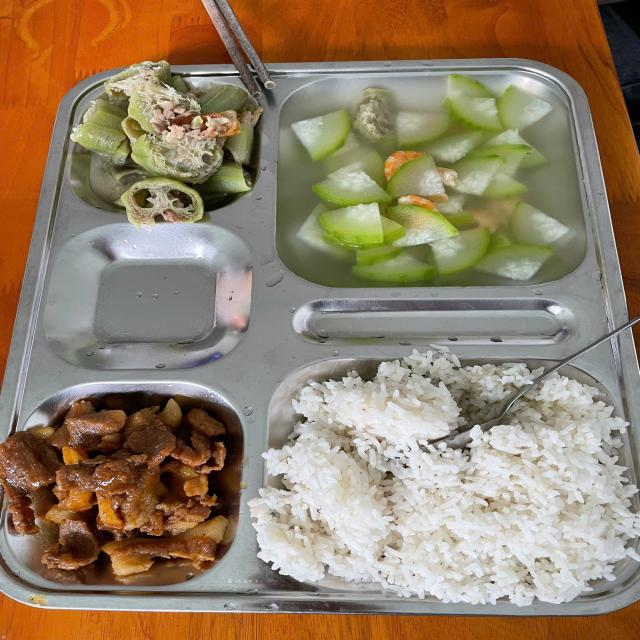canhbixanh: (283, 84, 582, 281)
daubap: (87, 82, 250, 224)
salad: (259, 362, 635, 600)
tomramthit: (1, 399, 228, 579)
